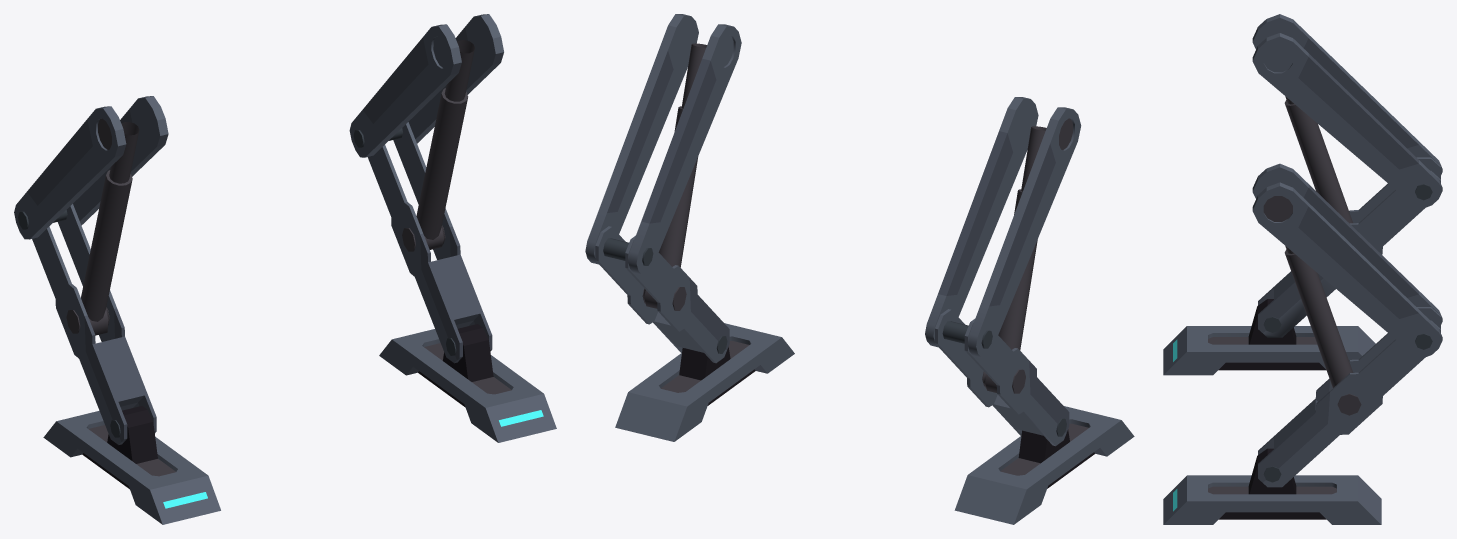
File: SM_Props_Device_11.fbx
3 renders of one model, left to right at view 1: azimuth 30°, elevation 25°; view 2: azimuth 150°, elevation 25°; view 3: azimuth 270°, elevation 25°, orthographic. The views are drawn at different scales.
Parts seen in each view (by area): view 1: SM_Props_Device_11; view 2: SM_Props_Device_11; view 3: SM_Props_Device_11.
Part boxes in pixels (left/top/right/bottom): SM_Props_Device_11: left=14, top=14, right=556, bottom=524; SM_Props_Device_11: left=585, top=14, right=1134, bottom=524; SM_Props_Device_11: left=1163, top=14, right=1442, bottom=524.
Size of the model in its own units: 1.01 by 0.8996 by 0.6748.
